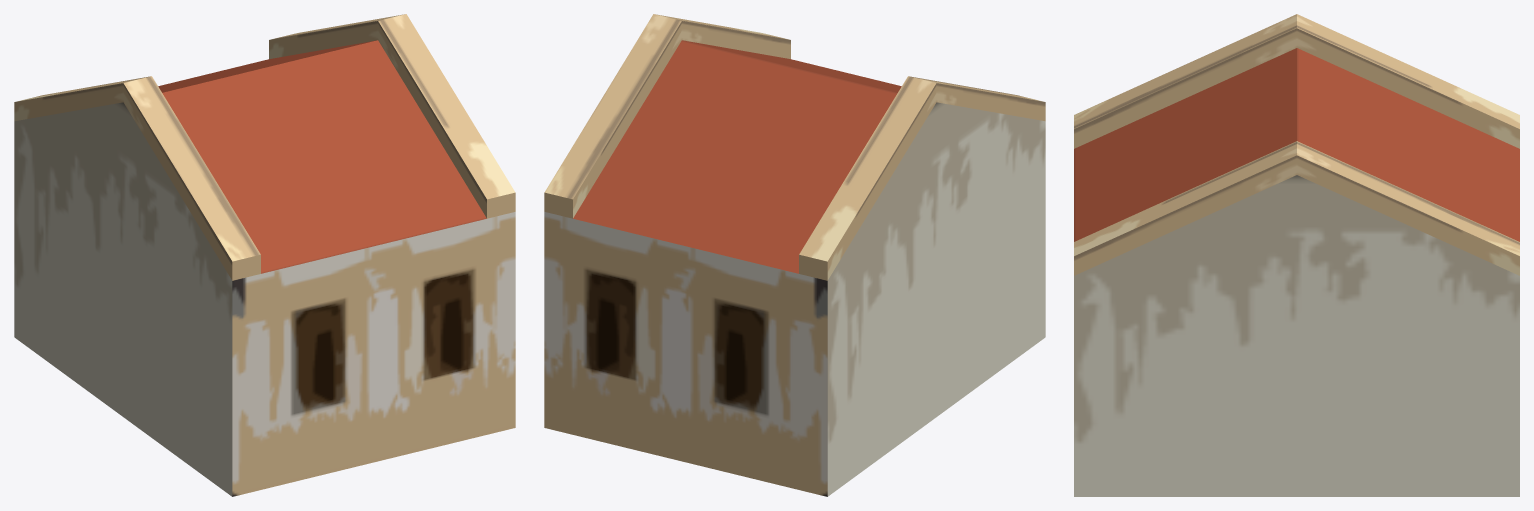
Rendered from SM_Building_Large_01.fbx.
3 views of the same model, side by side, from view 1: azimuth 30°, elevation 25°; view 2: azimuth 150°, elevation 25°; view 3: azimuth 270°, elevation 25° (orthographic). The views are drawn at different scales.
Parts seen in each view (by area): view 1: SM_Building_Large_01_LOD0; view 2: SM_Building_Large_01_LOD0; view 3: SM_Building_Large_01_LOD0.
Part boxes in pixels (bbox=[...]): SM_Building_Large_01_LOD0: bbox=[14, 14, 515, 496]; SM_Building_Large_01_LOD0: bbox=[544, 14, 1045, 496]; SM_Building_Large_01_LOD0: bbox=[1074, 14, 1519, 496].
Size of what is drawn, in the model's own units: 5.07 by 5.72 by 6.76.
